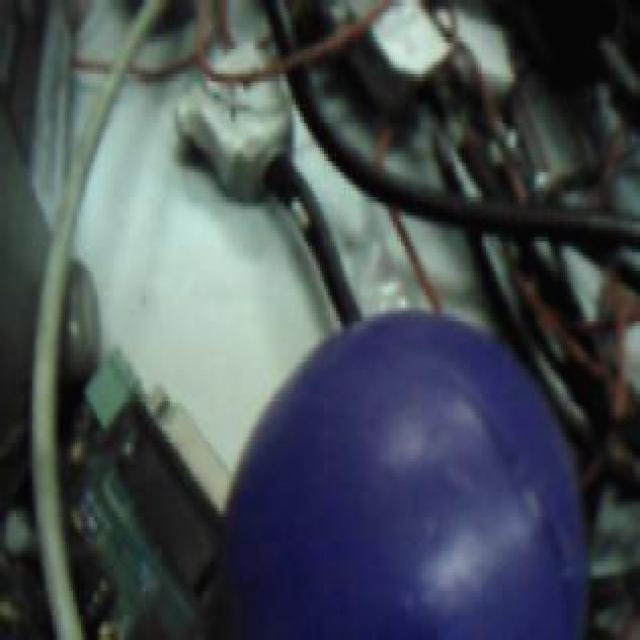BallPurple: (222, 304, 587, 640)
